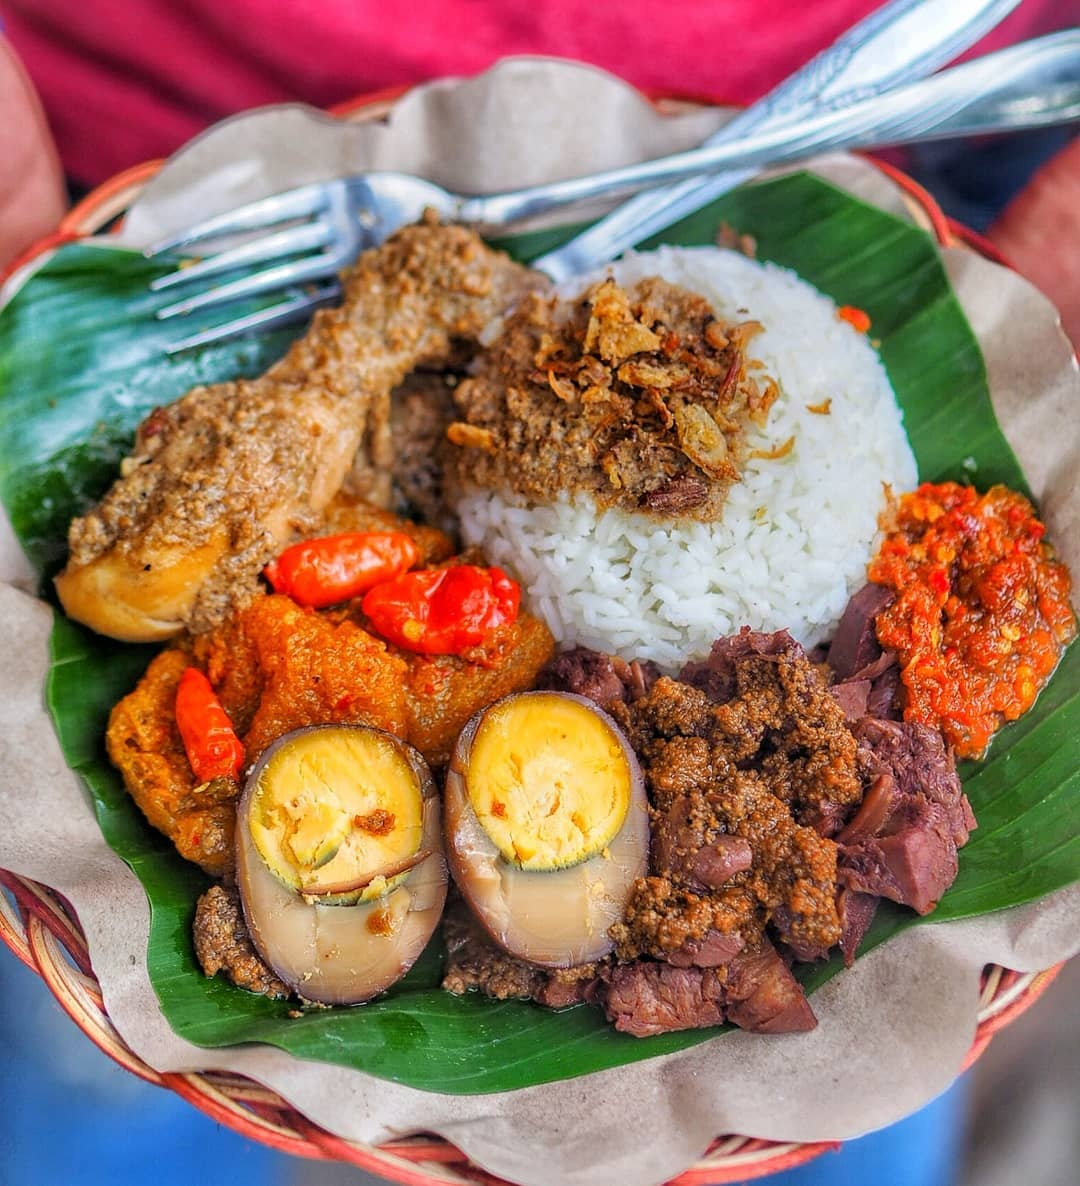gudeg: (36, 242, 1058, 1020)
